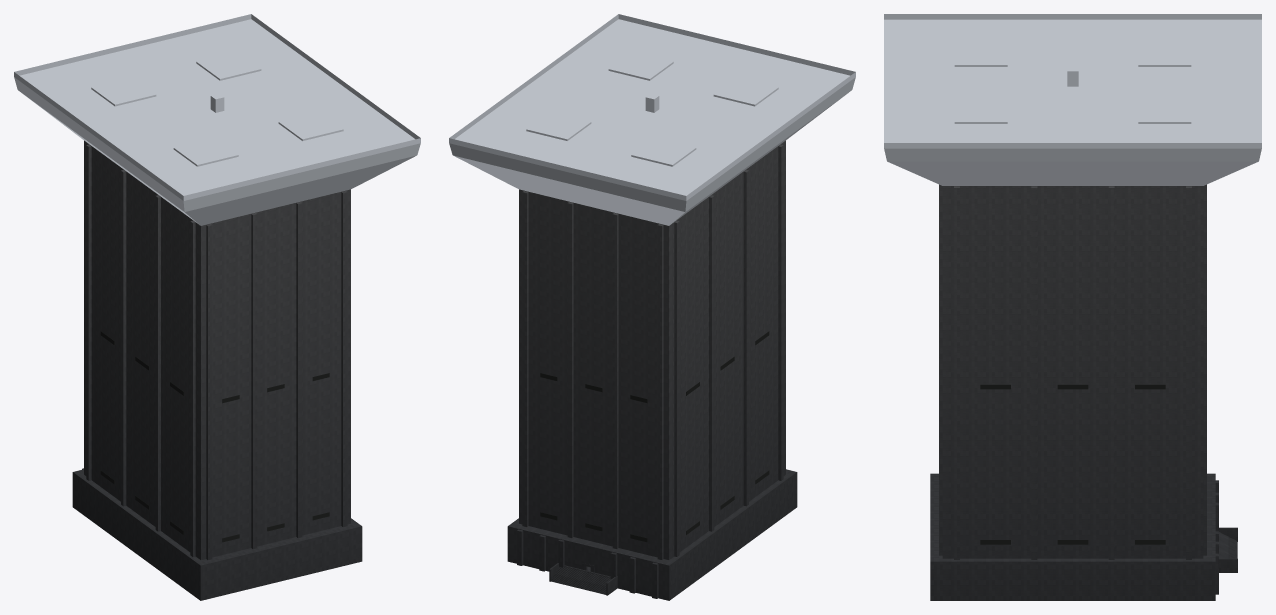
File: lapd-low.glb
The picture shows the model from 3 angles, left to right: view 1: azimuth 30°, elevation 25°; view 2: azimuth 150°, elevation 25°; view 3: azimuth 270°, elevation 25°; orthographic projection. The views are drawn at different scales.
Parts seen in each view (by area): view 1: solid-0, crown, glass-detail; view 2: solid-0, crown, glass-detail; view 3: solid-0, crown, glass-detail.
Boxes of the visible parts, left/top/right/bottom form: solid-0: left=72, top=140, right=362, bottom=600; crown: left=14, top=14, right=420, bottom=225; glass-detail: left=100, top=331, right=329, bottom=542; solid-0: left=507, top=140, right=797, bottom=600; crown: left=449, top=14, right=855, bottom=225; glass-detail: left=540, top=331, right=769, bottom=542; solid-0: left=930, top=184, right=1237, bottom=600; crown: left=884, top=14, right=1261, bottom=185; glass-detail: left=980, top=384, right=1165, bottom=544.
Size of the model in its own units: 126 by 223 by 156.
3 materials, 1 textured.
